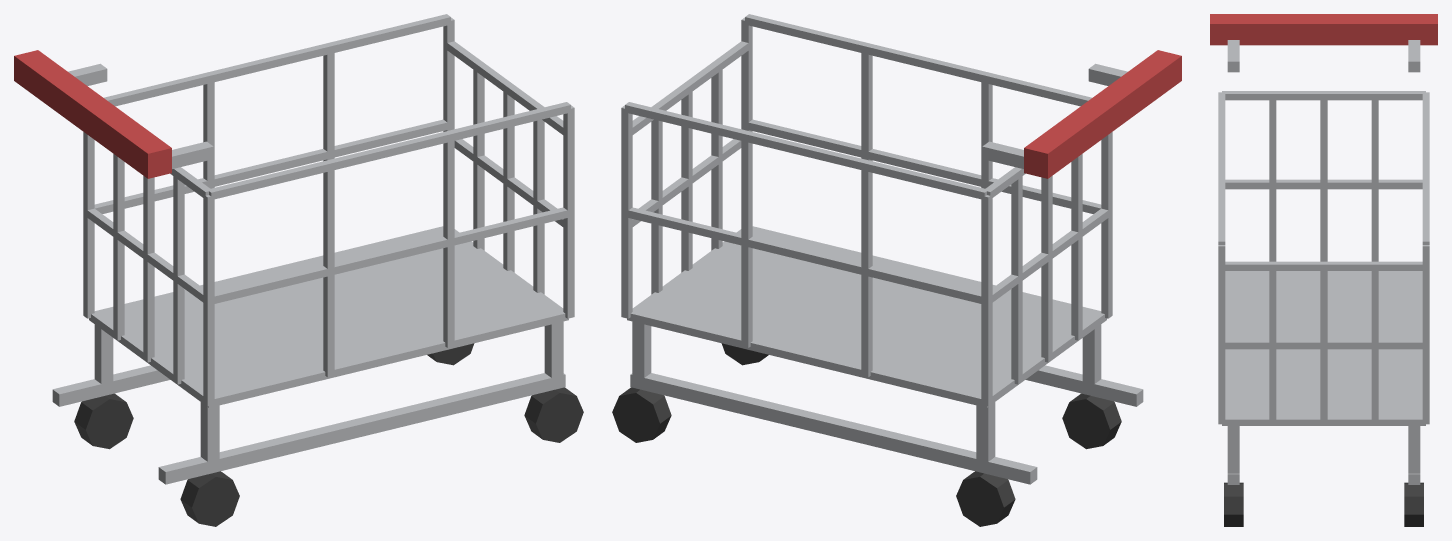
Rendered from shopping-cart.glb.
3 views of the same model, side by side, from view 1: azimuth 30°, elevation 25°; view 2: azimuth 150°, elevation 25°; view 3: azimuth 270°, elevation 25° (orthographic). The views are drawn at different scales.
Parts seen in each view (by area): view 1: shopping-cart; view 2: shopping-cart; view 3: shopping-cart.
Part boxes in pixels (<box>): shopping-cart: <box>14,14,583,526</box>; shopping-cart: <box>612,14,1181,526</box>; shopping-cart: <box>1210,14,1437,526</box>.
Size of the model in its own units: 15 by 12.84 by 7.84.
